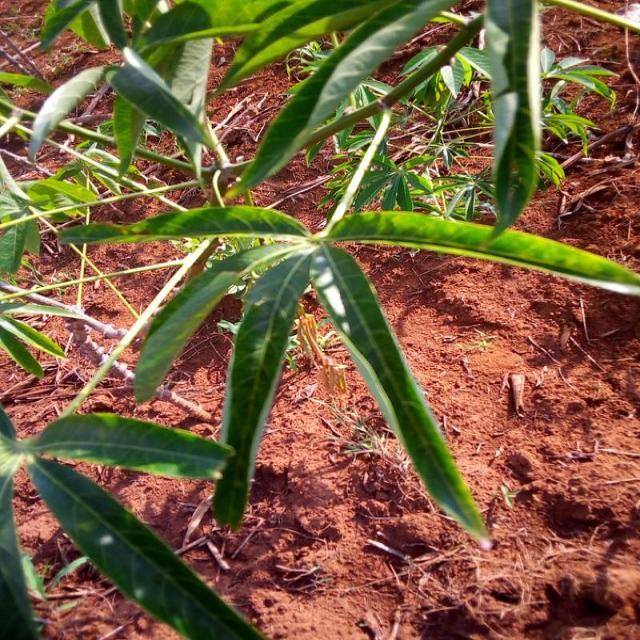cassava leaf: (309, 240, 492, 549), (210, 245, 312, 528)
